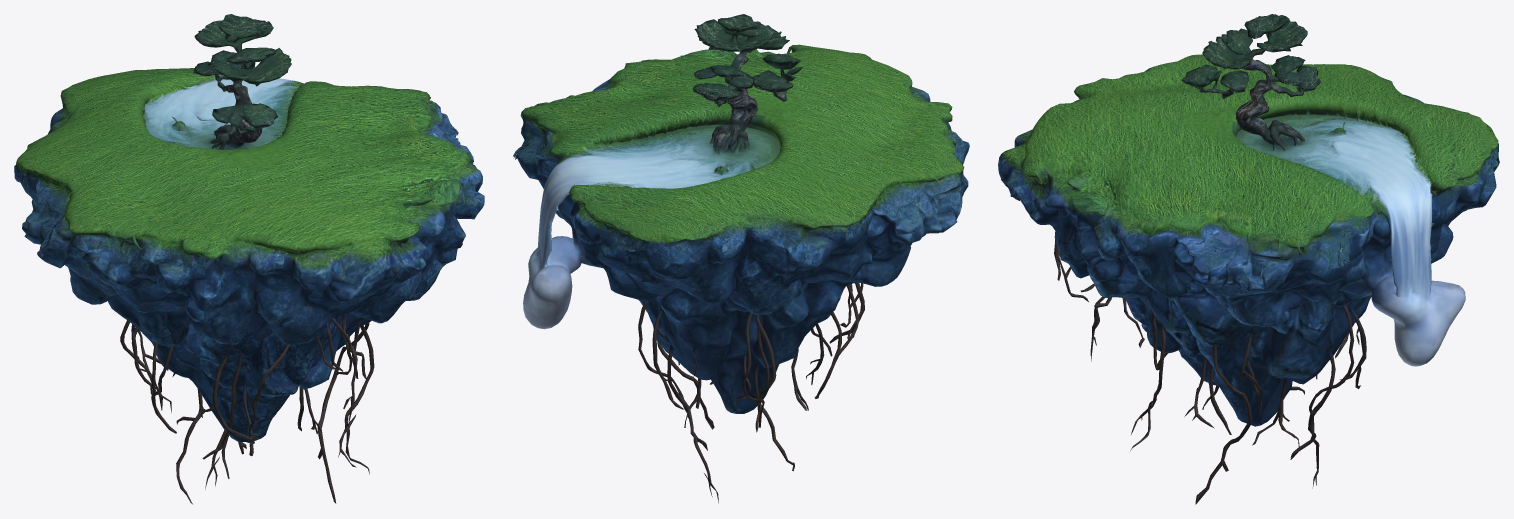
Rendered from floating_isle_b.glb.
3 renders of one model, left to right at view 1: azimuth 30°, elevation 25°; view 2: azimuth 150°, elevation 25°; view 3: azimuth 270°, elevation 25°, orthographic. The views are drawn at different scales.
Parts seen in each view (by area): view 1: tripo_node_ec0f92a8-c7e3-40c0-a512-d4d2a0986ae4; view 2: tripo_node_ec0f92a8-c7e3-40c0-a512-d4d2a0986ae4; view 3: tripo_node_ec0f92a8-c7e3-40c0-a512-d4d2a0986ae4.
Part boxes in pixels (x1,y1,x2,y2): tripo_node_ec0f92a8-c7e3-40c0-a512-d4d2a0986ae4: [14, 14, 484, 504]; tripo_node_ec0f92a8-c7e3-40c0-a512-d4d2a0986ae4: [513, 14, 969, 503]; tripo_node_ec0f92a8-c7e3-40c0-a512-d4d2a0986ae4: [998, 14, 1499, 504].
Bounding box in the file's own units: 0.9339 × 1 × 0.9644.
Materials: 1 (1 with a texture image).
